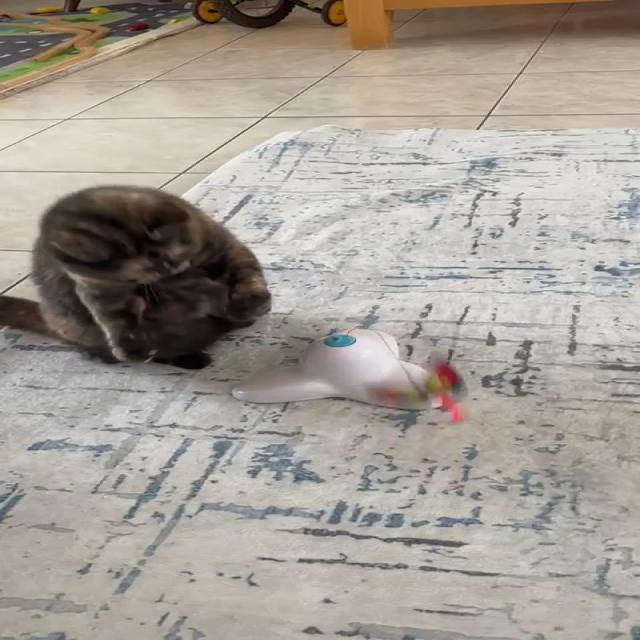authorized: (0, 183, 272, 370)
